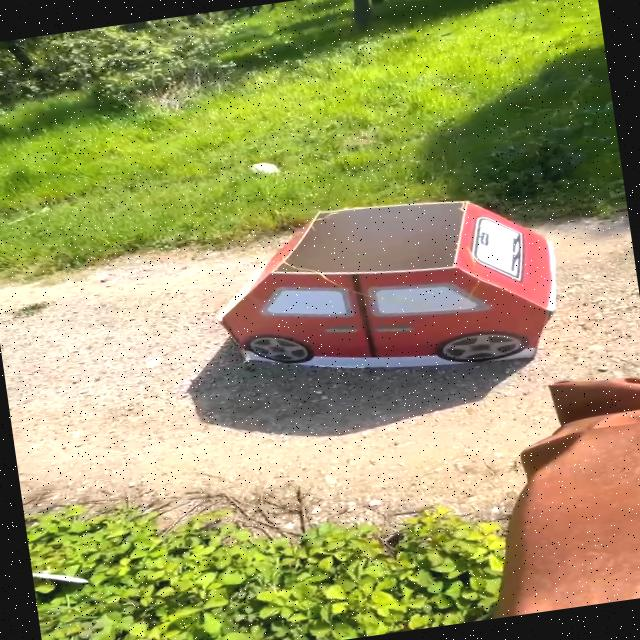red_car: (190, 171, 594, 431)
